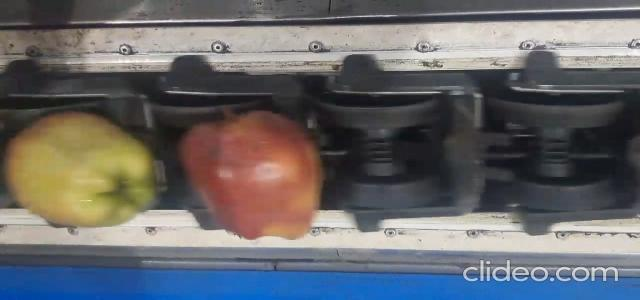apple: (180, 111, 321, 240), (5, 112, 154, 227)
